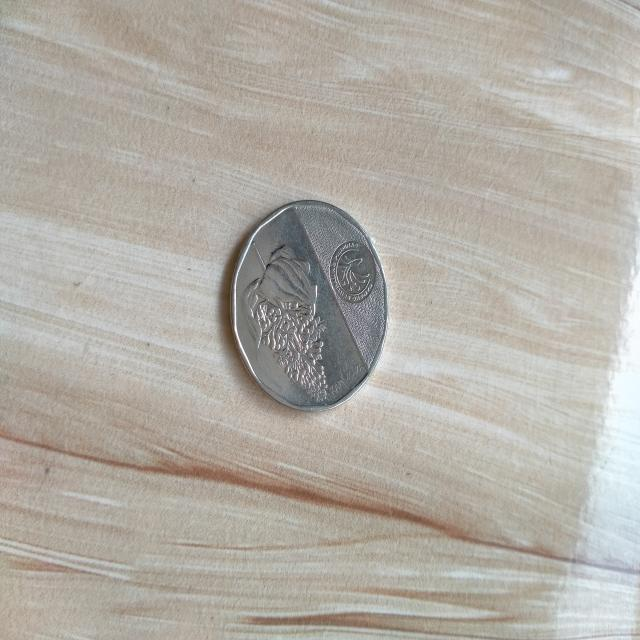10_New_Back: (244, 225, 335, 408)
